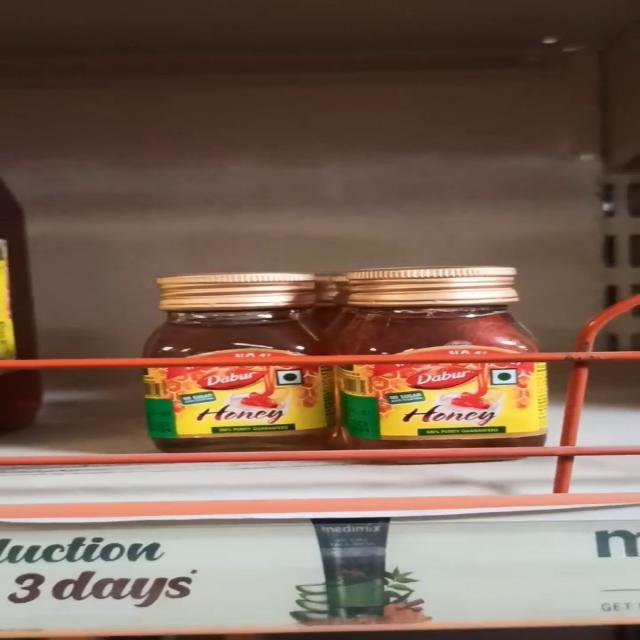Dabur Honey: (342, 266, 544, 460), (138, 271, 342, 458)
